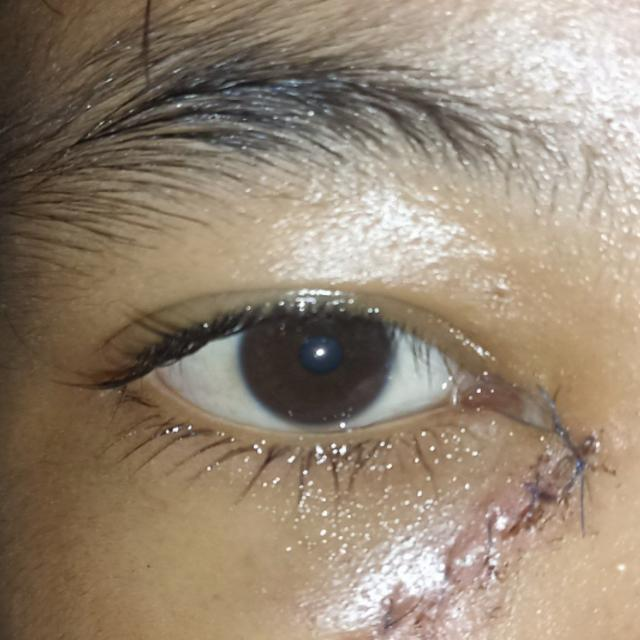Normal: (242, 285, 393, 430)
